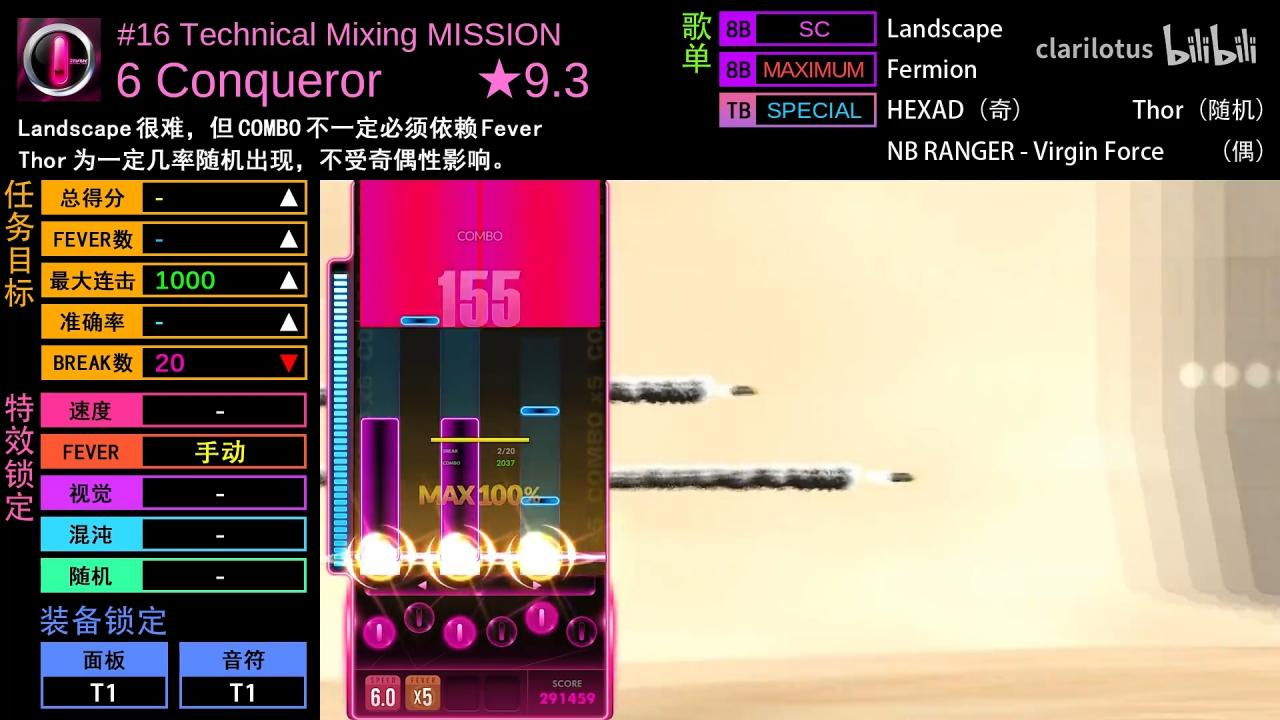hold-end: (361, 418, 400, 431), (441, 416, 479, 428)
note: (400, 314, 440, 327), (520, 406, 560, 417), (520, 496, 561, 506)
xstart: (360, 313, 480, 327), (480, 313, 600, 327)
